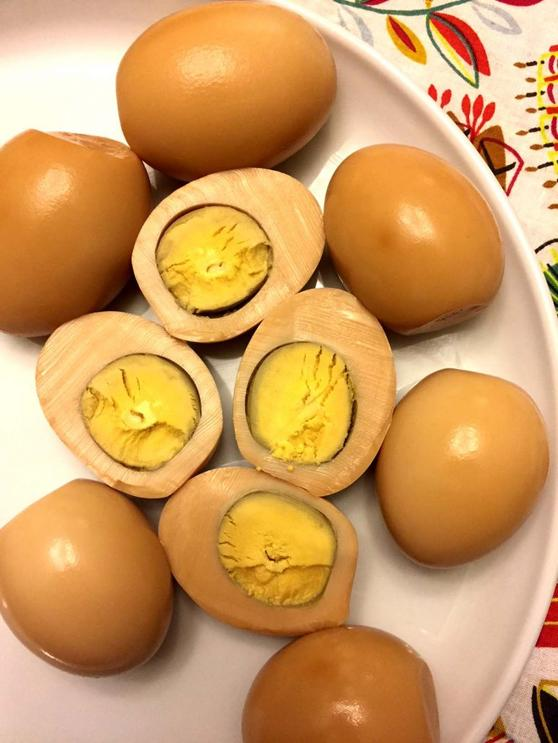egg: (111, 1, 346, 172)
